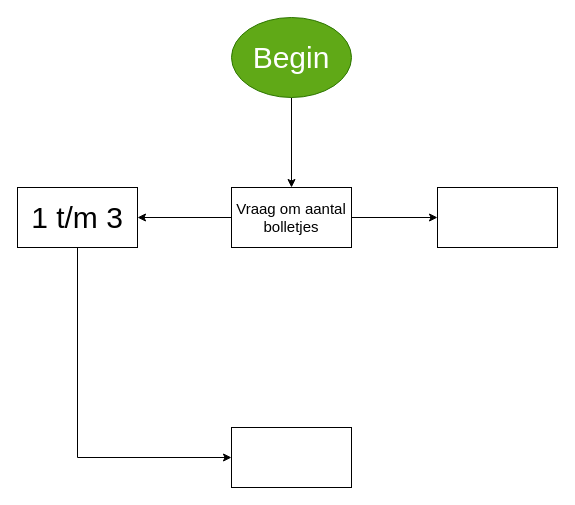
The diagram is 575 pixels wide and 505 high, and some of its shapes have lost their labels. The centre of each missing label's shape, as x and y in pixels:
"4 t/m 8" belongs at [497,217].
"Vraag om hoorntje of bakje" belongs at [291,457].
